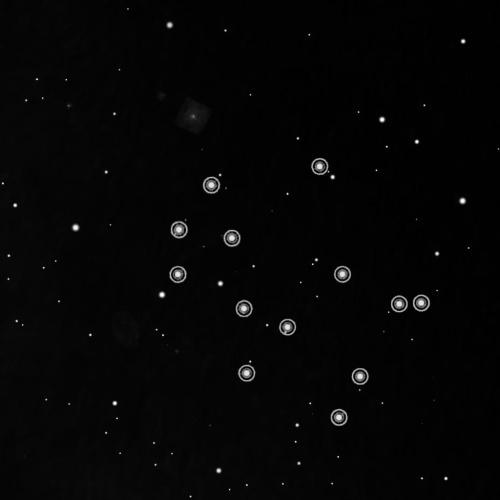gemini: (159, 151, 433, 429)
